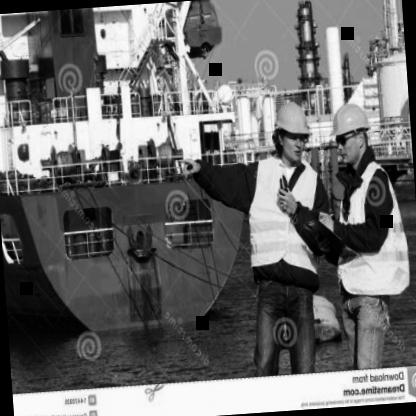helmet: (325, 95, 375, 170), (267, 96, 316, 168), (310, 285, 343, 360)
